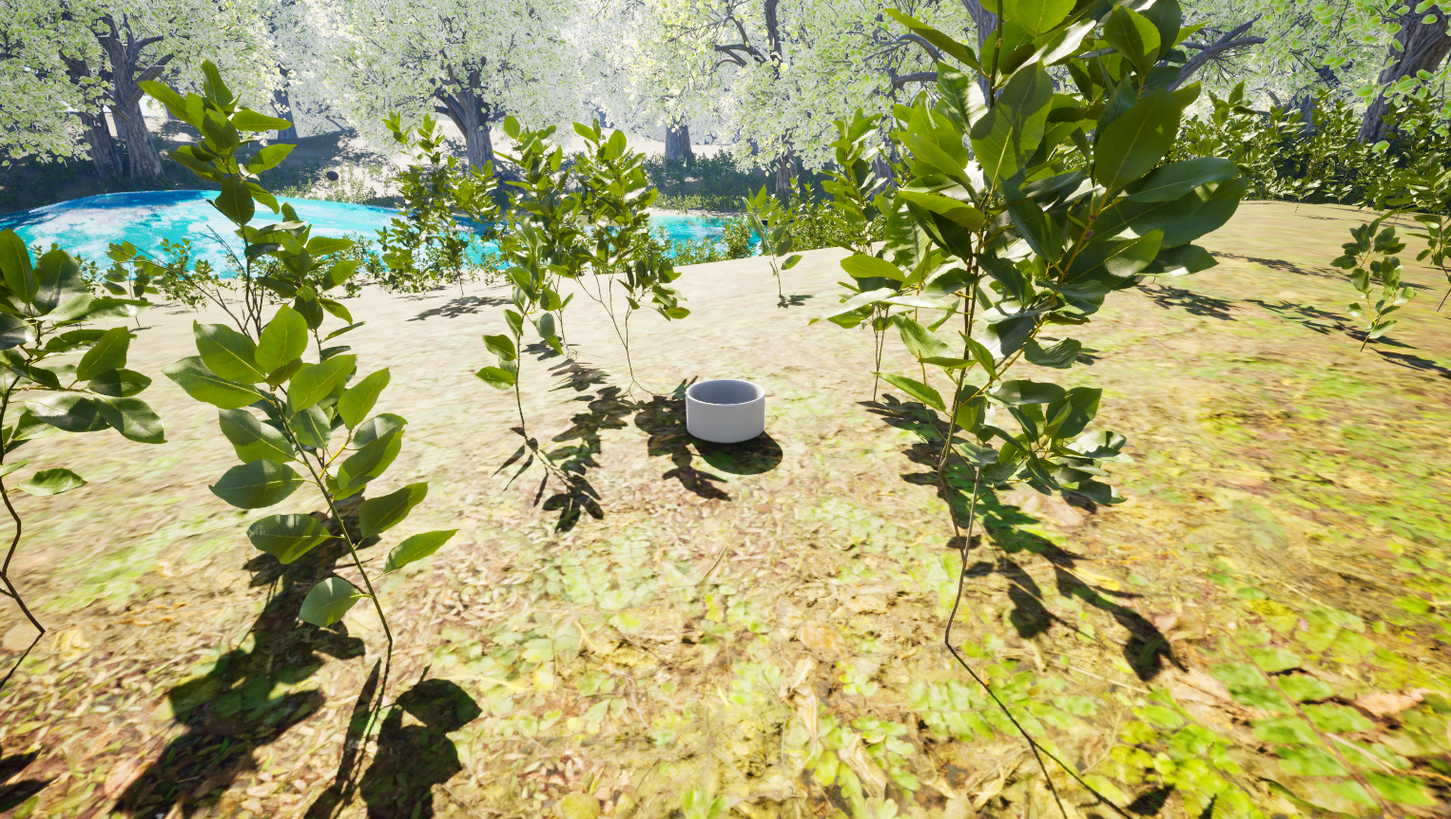Teacup: (685, 374, 771, 445)
